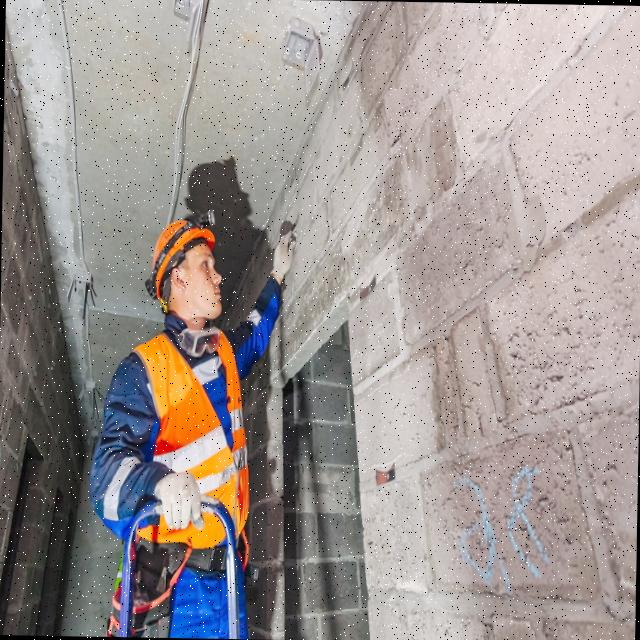Helmet: (150, 212, 217, 303)
Jacket: (136, 328, 246, 552)
